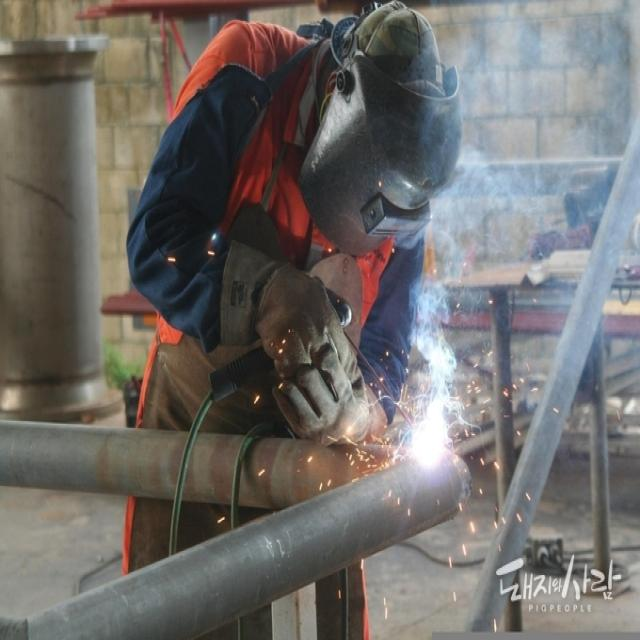welding: (410, 416, 450, 466)
